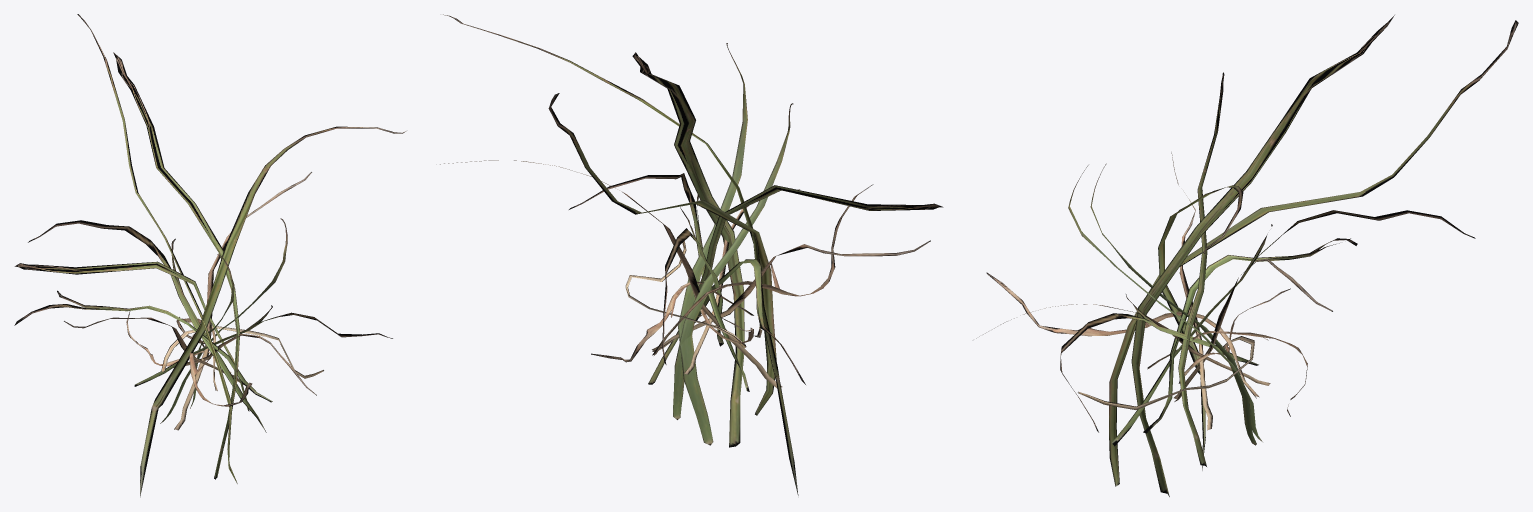
3 renders of one model, left to right at view 1: azimuth 30°, elevation 25°; view 2: azimuth 150°, elevation 25°; view 3: azimuth 270°, elevation 25°, orthographic. The views are drawn at different scales.
Visible parts, largest first — view 1: grass_medium_02_d; view 2: grass_medium_02_d; view 3: grass_medium_02_d.
Boxes of the visible parts, box(x1,y1,x2,y2) form: grass_medium_02_d: box(14, 14, 406, 497); grass_medium_02_d: box(440, 14, 943, 495); grass_medium_02_d: box(976, 15, 1518, 496).
Size of the model in its own units: 0.4413 by 0.4143 by 0.4179.
Materials: 1 (1 with a texture image).
